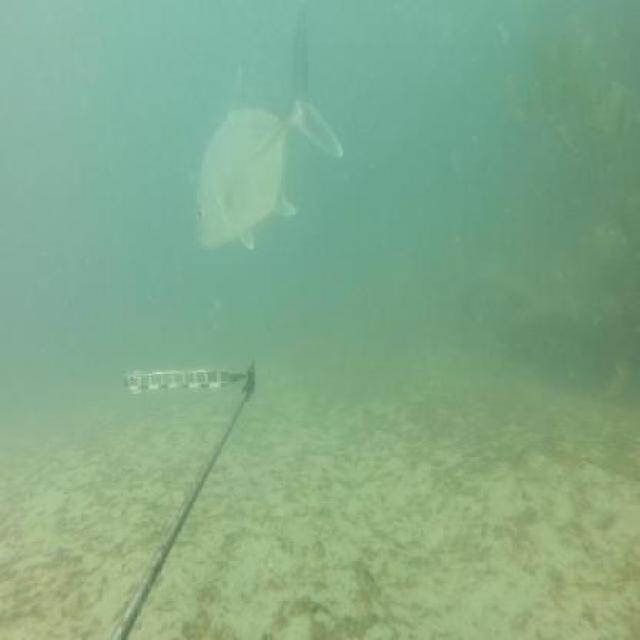Caranx: (190, 14, 348, 260)
